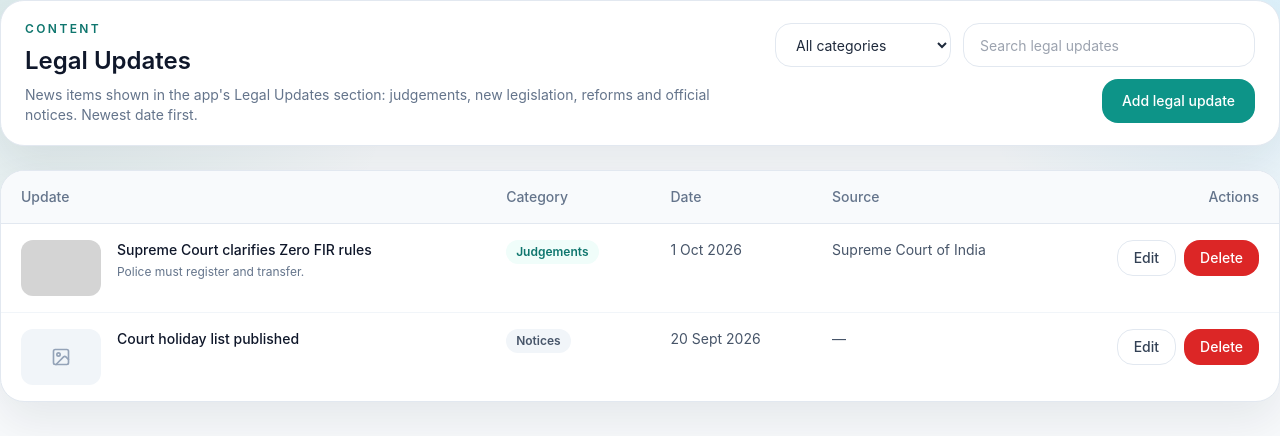
Scenario: LegalUpdatesPage › lists updates and filters them by category
The width and height of the screenshot is (1280, 436).
Expected: the text "Supreme Court clarifies Zero FIR rules" is shown, [117,240,372,260]
Expected: the text "Court holiday list published" is shown, [117,329,299,349]
Select "Notices" in the dropdown named "Filter by category" at (863, 45), box [775,23,951,67]
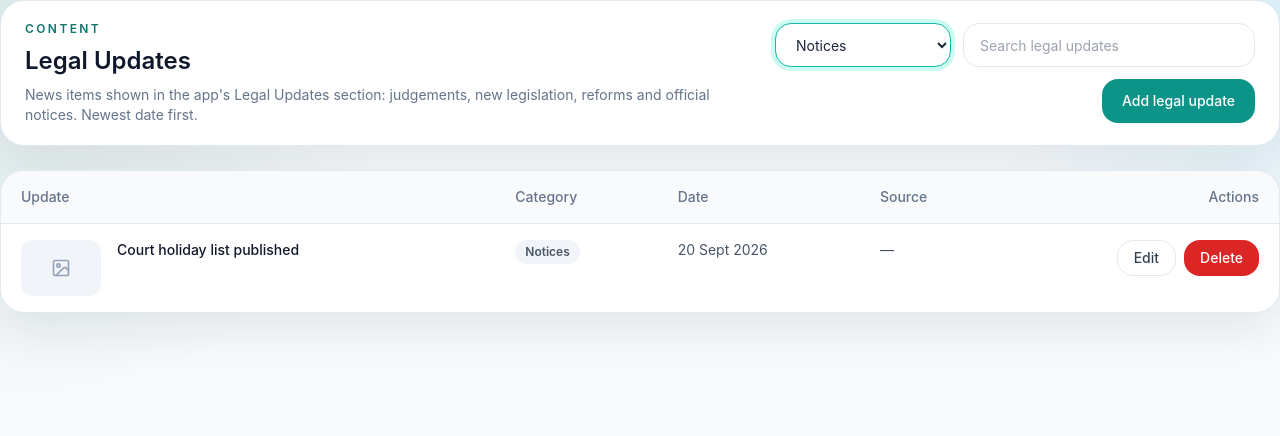
Expected: the text "Court holiday list published" is shown, [117,240,299,260]
Now the text "Supreme Court clarifies Zero FIR rules" is gone
